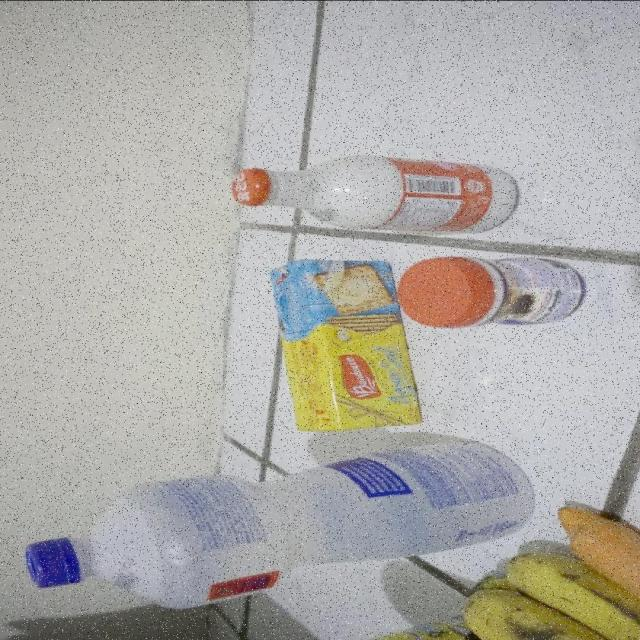AlcoholBottle: (21, 443, 454, 614)
Banana: (468, 594, 640, 639)
Carrot: (543, 502, 640, 586)
ChocolatePowder: (294, 622, 451, 640)
CoconutMilk: (232, 150, 518, 238)
Cracker: (264, 255, 396, 433)
Yeast: (400, 257, 576, 328)
